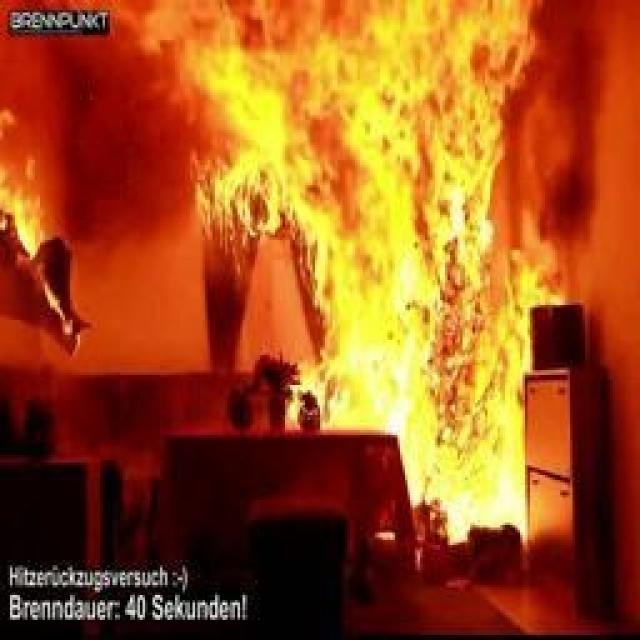fire: (0, 3, 635, 475)
